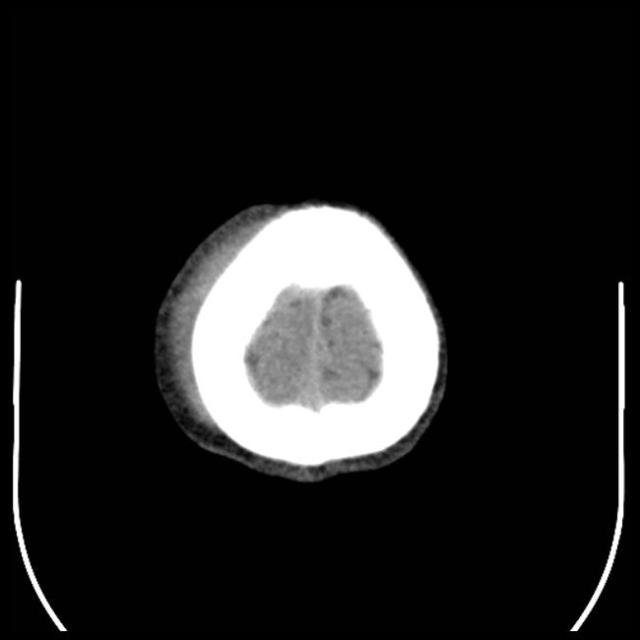lesion: (150, 195, 452, 484)
